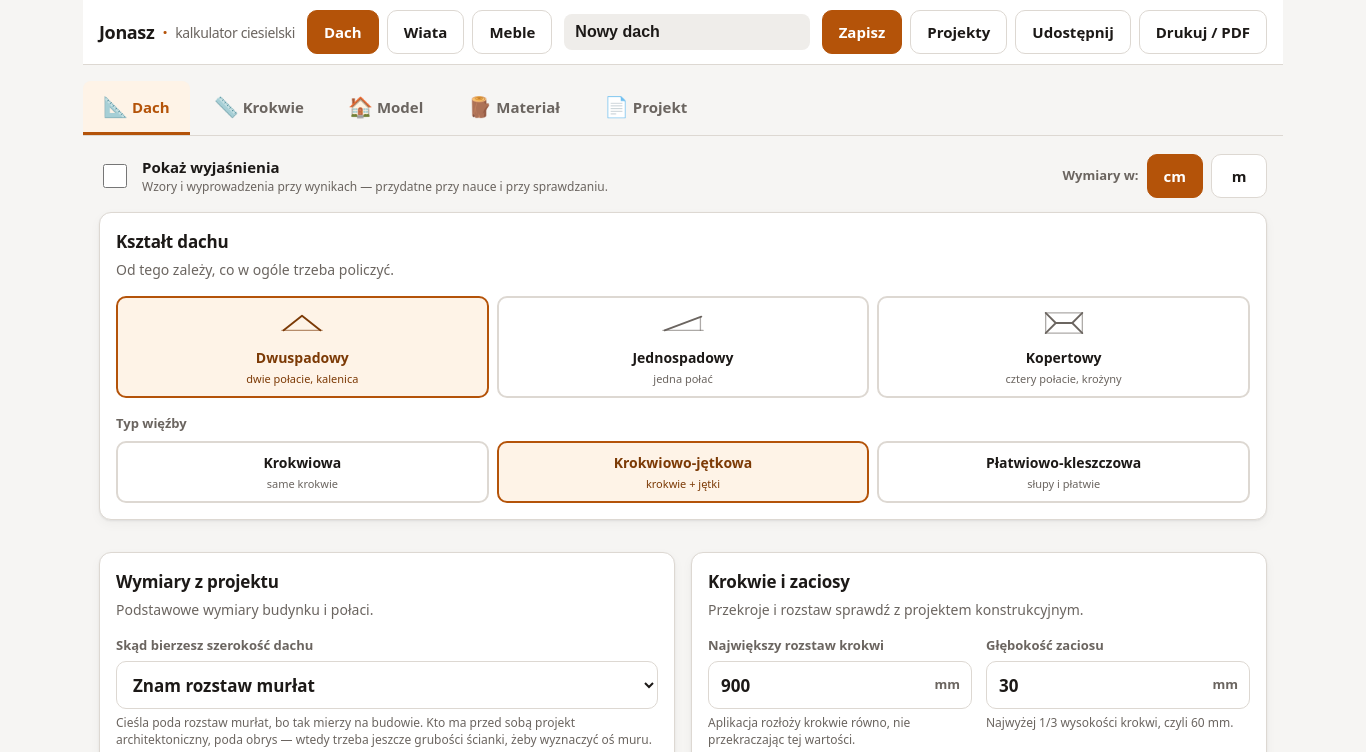
it: aplikacja jako całość › zapisuje projekt i pozwala go odnaleźć na liście
Replace the text in the field named "Nazwa projektu" with "Dom Kowalscy" at point(687, 32), box [564,14,810,50]
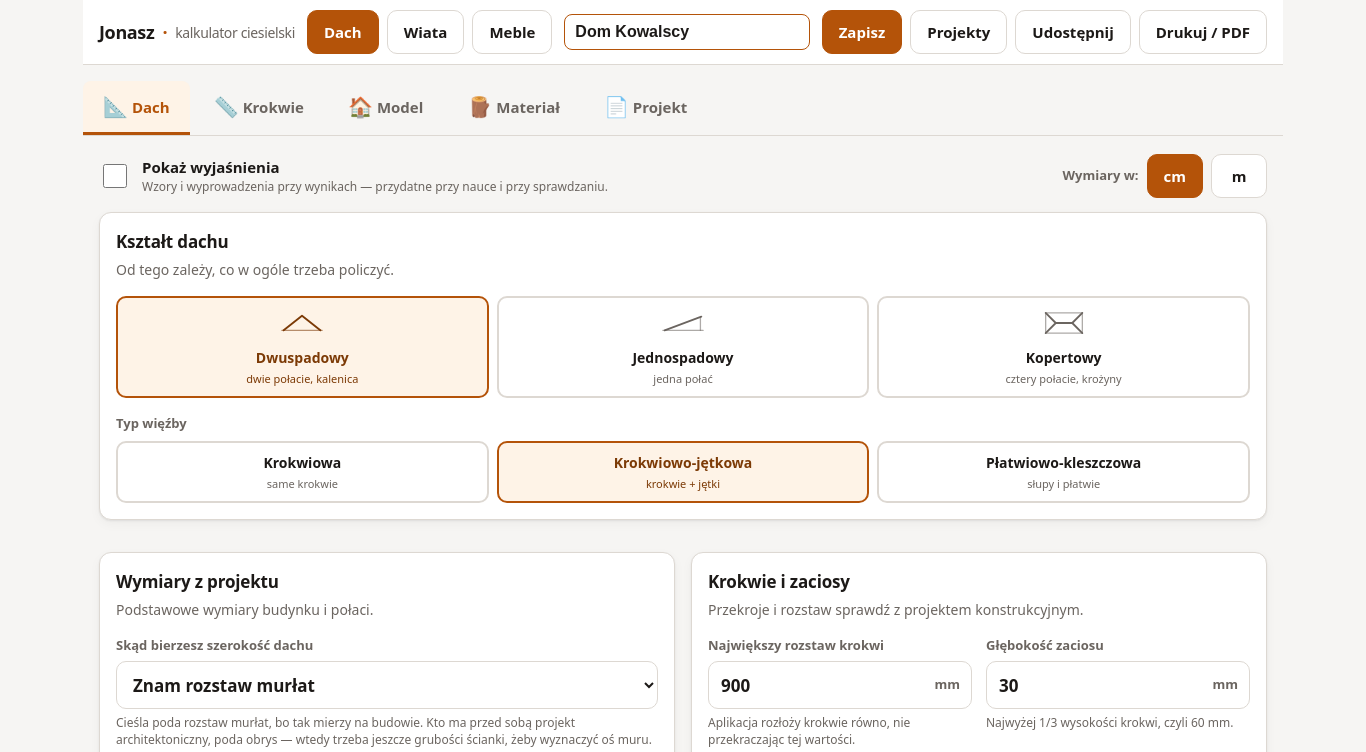
Click the button "Zapisz" at point(862, 32), box [822,10,902,54]
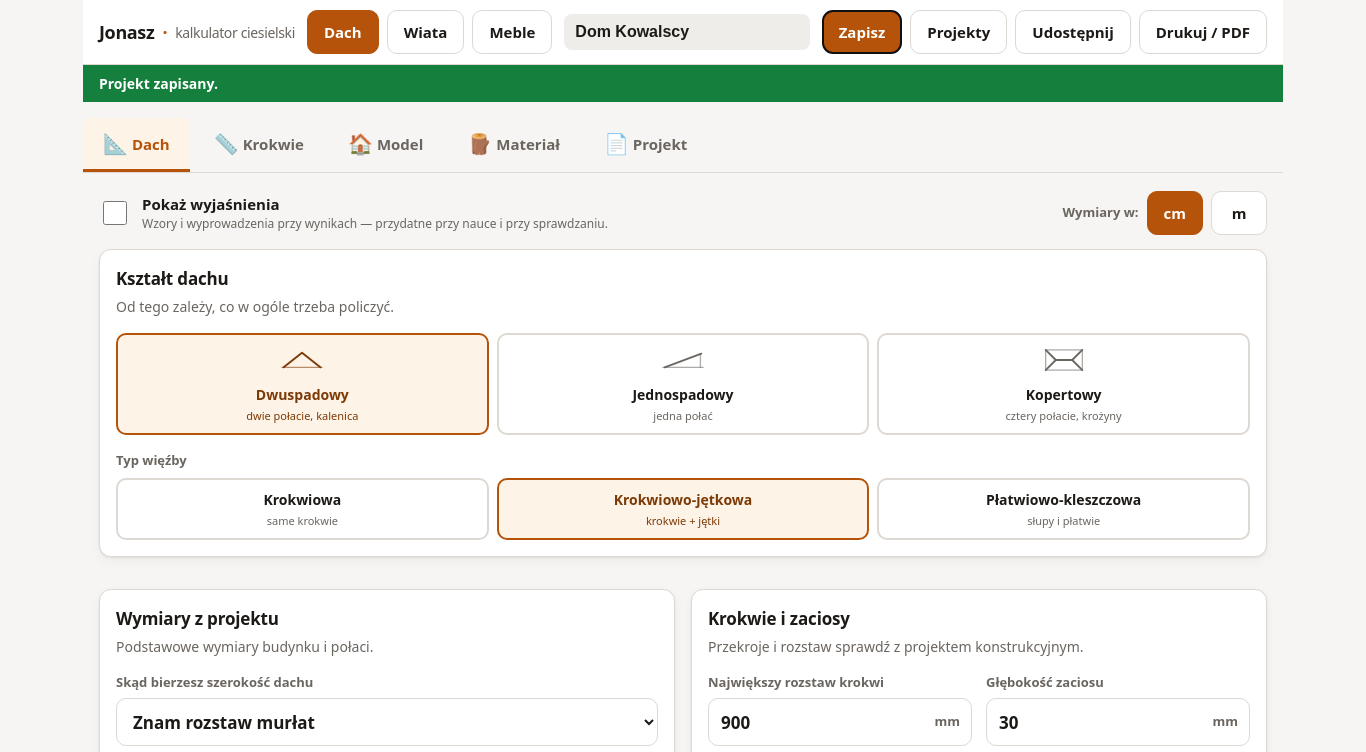
Click the button "Projekty" at point(959, 32), box [910,10,1007,54]
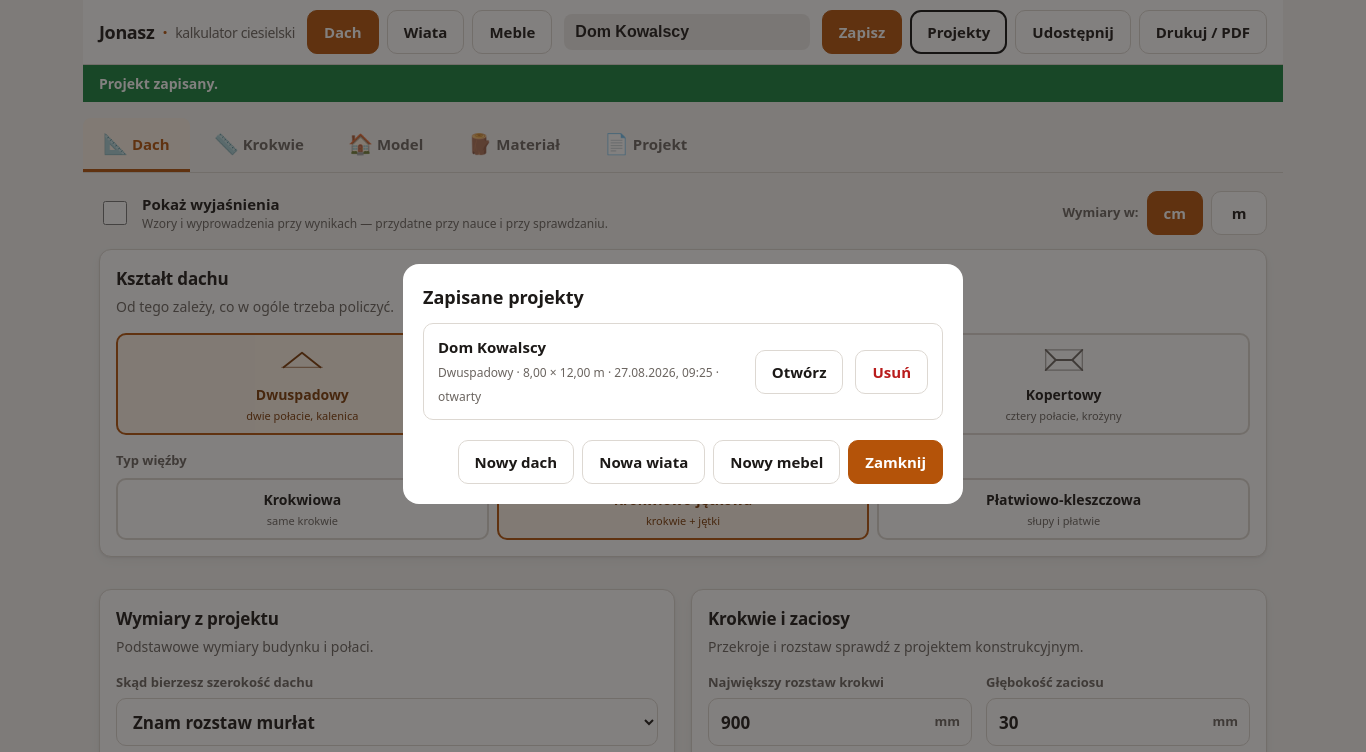
Now the text "Dom Kowalscy" is shown, box [438,337,546,357]
